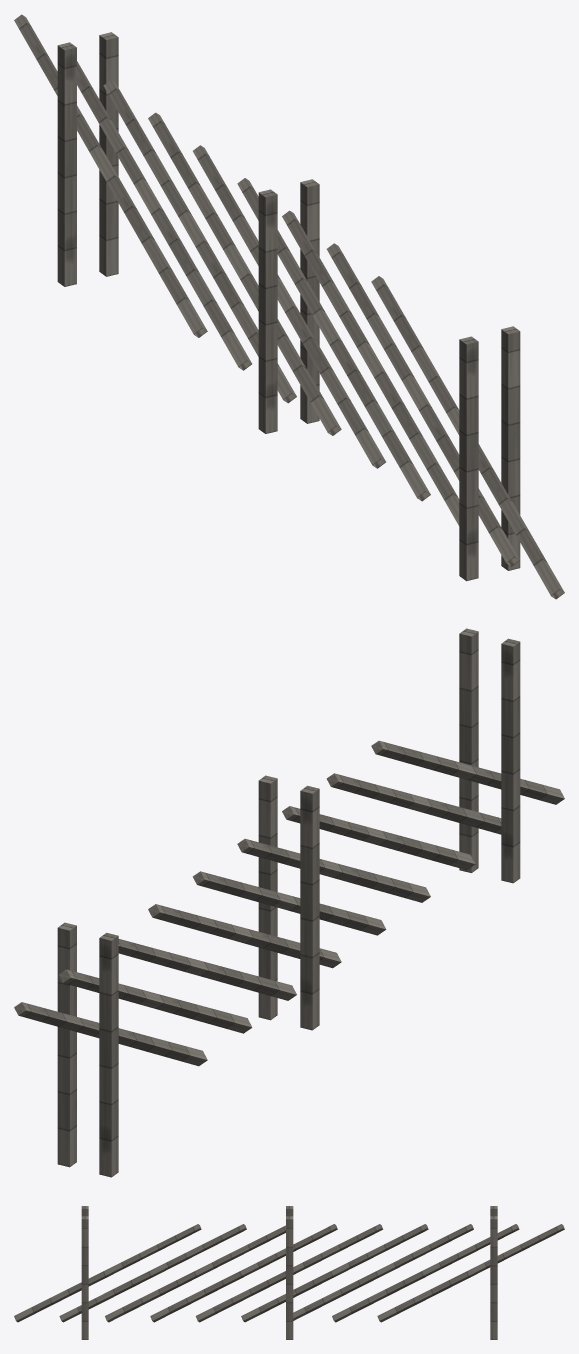
The model's file is fence.glb.
3 views of the same model, one above another, from view 1: azimuth 30°, elevation 25°; view 2: azimuth 150°, elevation 25°; view 3: azimuth 270°, elevation 25° (orthographic). The views are drawn at different scales.
Visible parts, largest first — view 1: fence_LOD0; view 2: fence_LOD0; view 3: fence_LOD0.
Part boxes in pixels (left/top/right/bottom): fence_LOD0: left=14, top=14, right=564, bottom=599; fence_LOD0: left=14, top=628, right=564, bottom=1177; fence_LOD0: left=14, top=1206, right=564, bottom=1339.
Size of what is drawn, in the model's own units: 0.31 by 1.3 by 5.39.
1 material, 1 textured.
